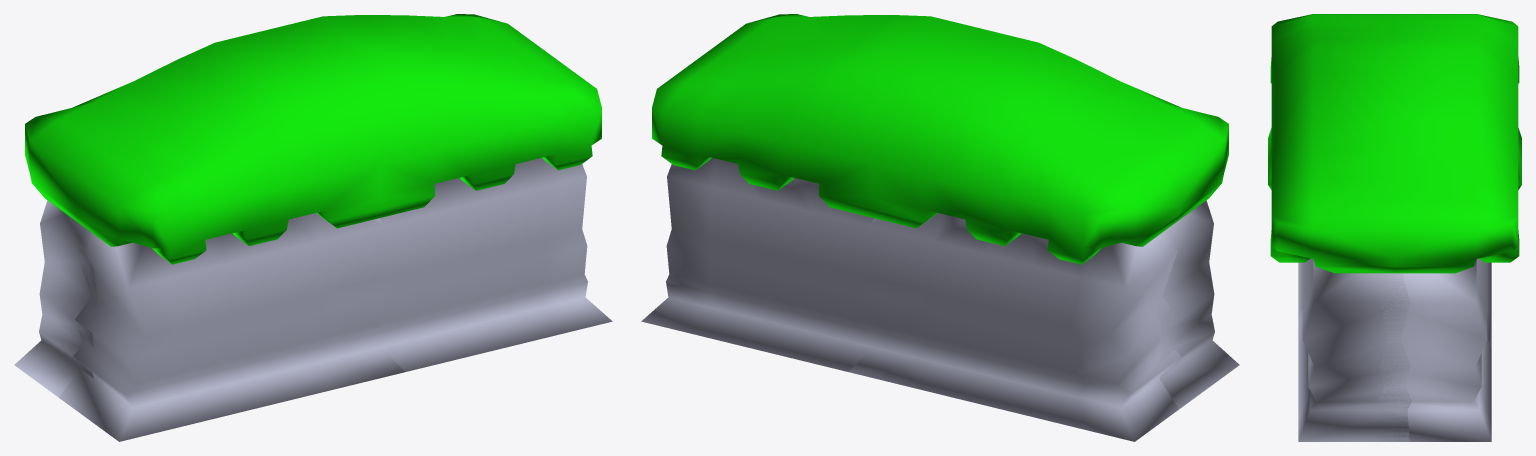
The model's file is Island1.fbx.
3 renders of one model, left to right at view 1: azimuth 30°, elevation 25°; view 2: azimuth 150°, elevation 25°; view 3: azimuth 270°, elevation 25°, orthographic. The views are drawn at different scales.
Visible parts, largest first — view 1: Cube; view 2: Cube; view 3: Cube.
Part boxes in pixels (left/top/right/bottom): Cube: left=14, top=14, right=612, bottom=441; Cube: left=641, top=14, right=1239, bottom=441; Cube: left=1268, top=14, right=1521, bottom=441.
Bounding box in the file's own units: 1129 × 615 × 547.
